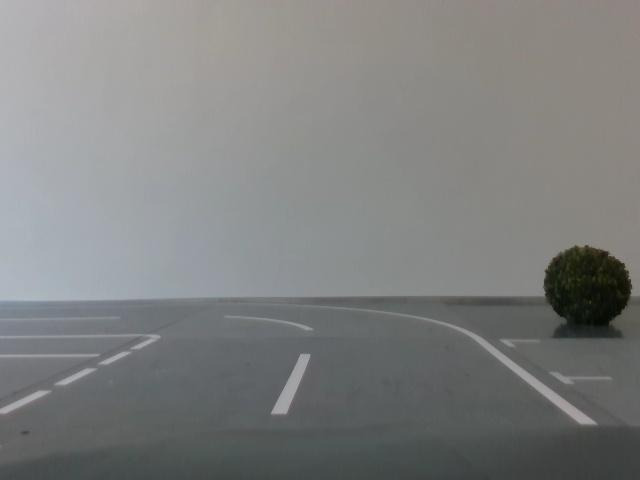potted plant: (531, 237, 636, 333)
